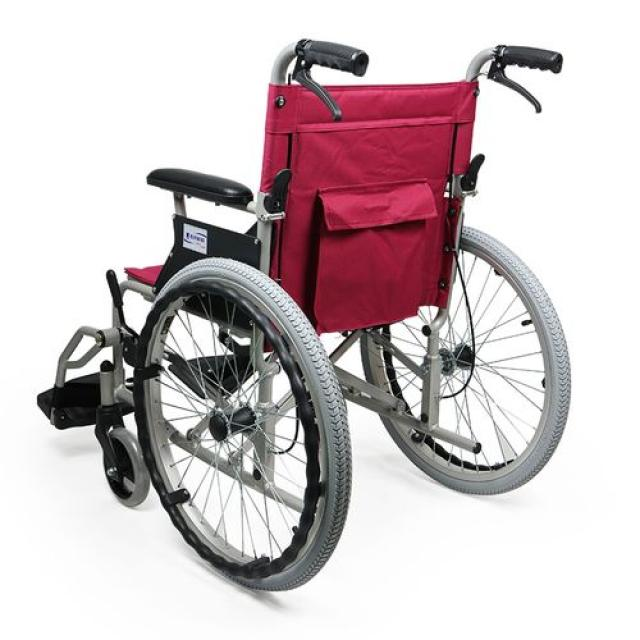wheelchairs: (5, 5, 640, 640)
